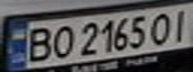1: (97, 17, 118, 54)
2: (75, 19, 100, 56)
5: (127, 14, 151, 50)
6: (112, 15, 136, 52)
B: (21, 25, 54, 63)
I: (166, 4, 193, 43)
O: (48, 22, 75, 60), (148, 9, 175, 46)
